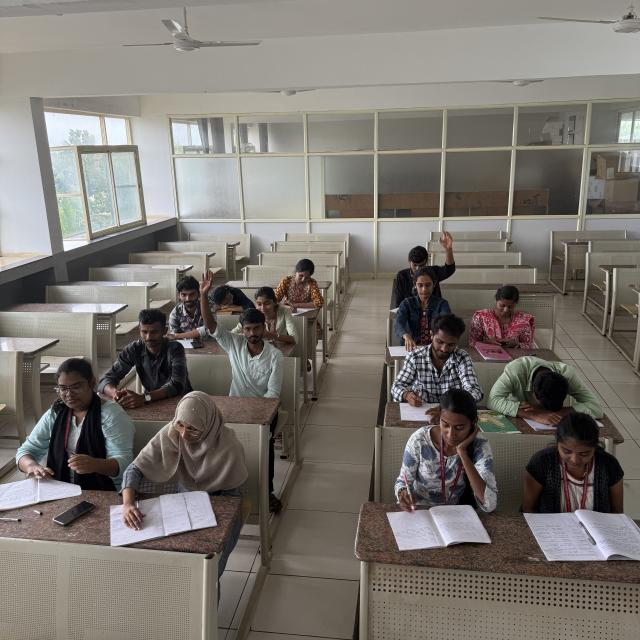Hand Rising: (198, 260, 283, 390), (393, 231, 457, 298)
Reading: (520, 410, 636, 548)
Sleeping: (493, 358, 606, 418), (203, 278, 254, 316)
Using Phone: (19, 358, 124, 489), (98, 304, 195, 408), (471, 283, 536, 348)
Writing: (118, 393, 246, 534), (392, 397, 498, 543), (394, 314, 482, 419), (276, 255, 326, 316)
